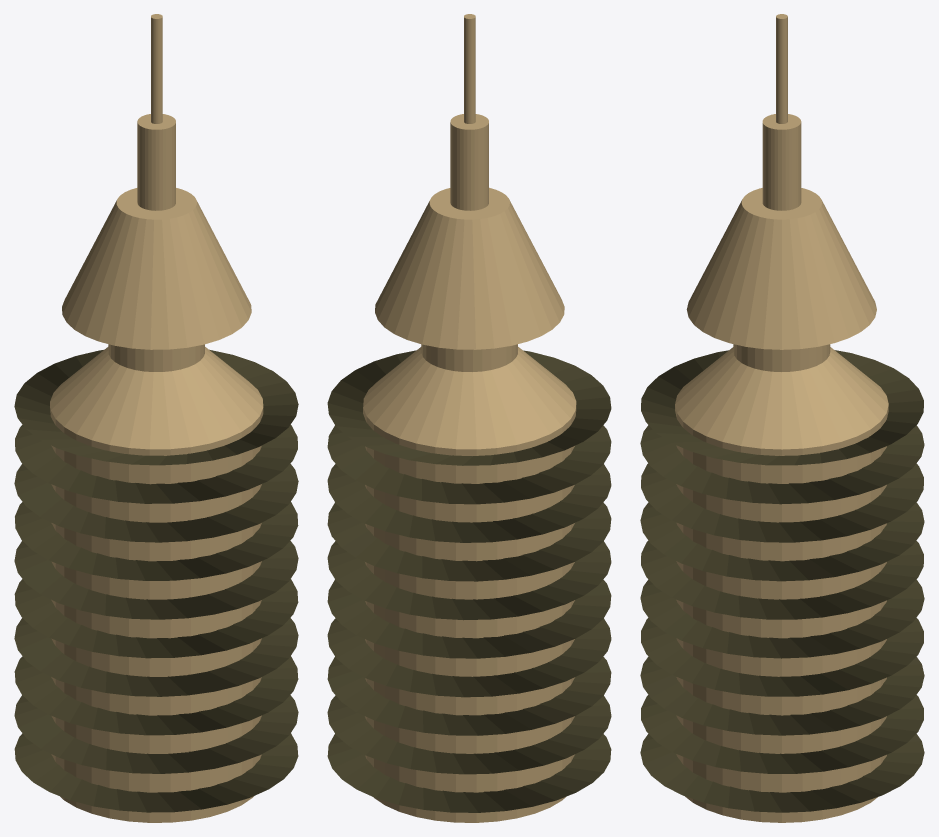
The model's file is Pile.fbx.
3 views of the same model, side by side, from view 1: azimuth 30°, elevation 25°; view 2: azimuth 150°, elevation 25°; view 3: azimuth 270°, elevation 25° (orthographic).
Parts seen in each view (by area): view 1: Circle, Cylinder; view 2: Circle, Cylinder; view 3: Circle, Cylinder.
Boxes of the visible parts, bbox=[...] form: Circle: bbox=[14, 349, 298, 812]; Cylinder: bbox=[50, 14, 263, 822]; Circle: bbox=[327, 350, 611, 812]; Cylinder: bbox=[363, 14, 576, 822]; Circle: bbox=[640, 350, 924, 812]; Cylinder: bbox=[675, 14, 888, 822].
Bounding box in the file's own units: 266 × 786 × 266.
